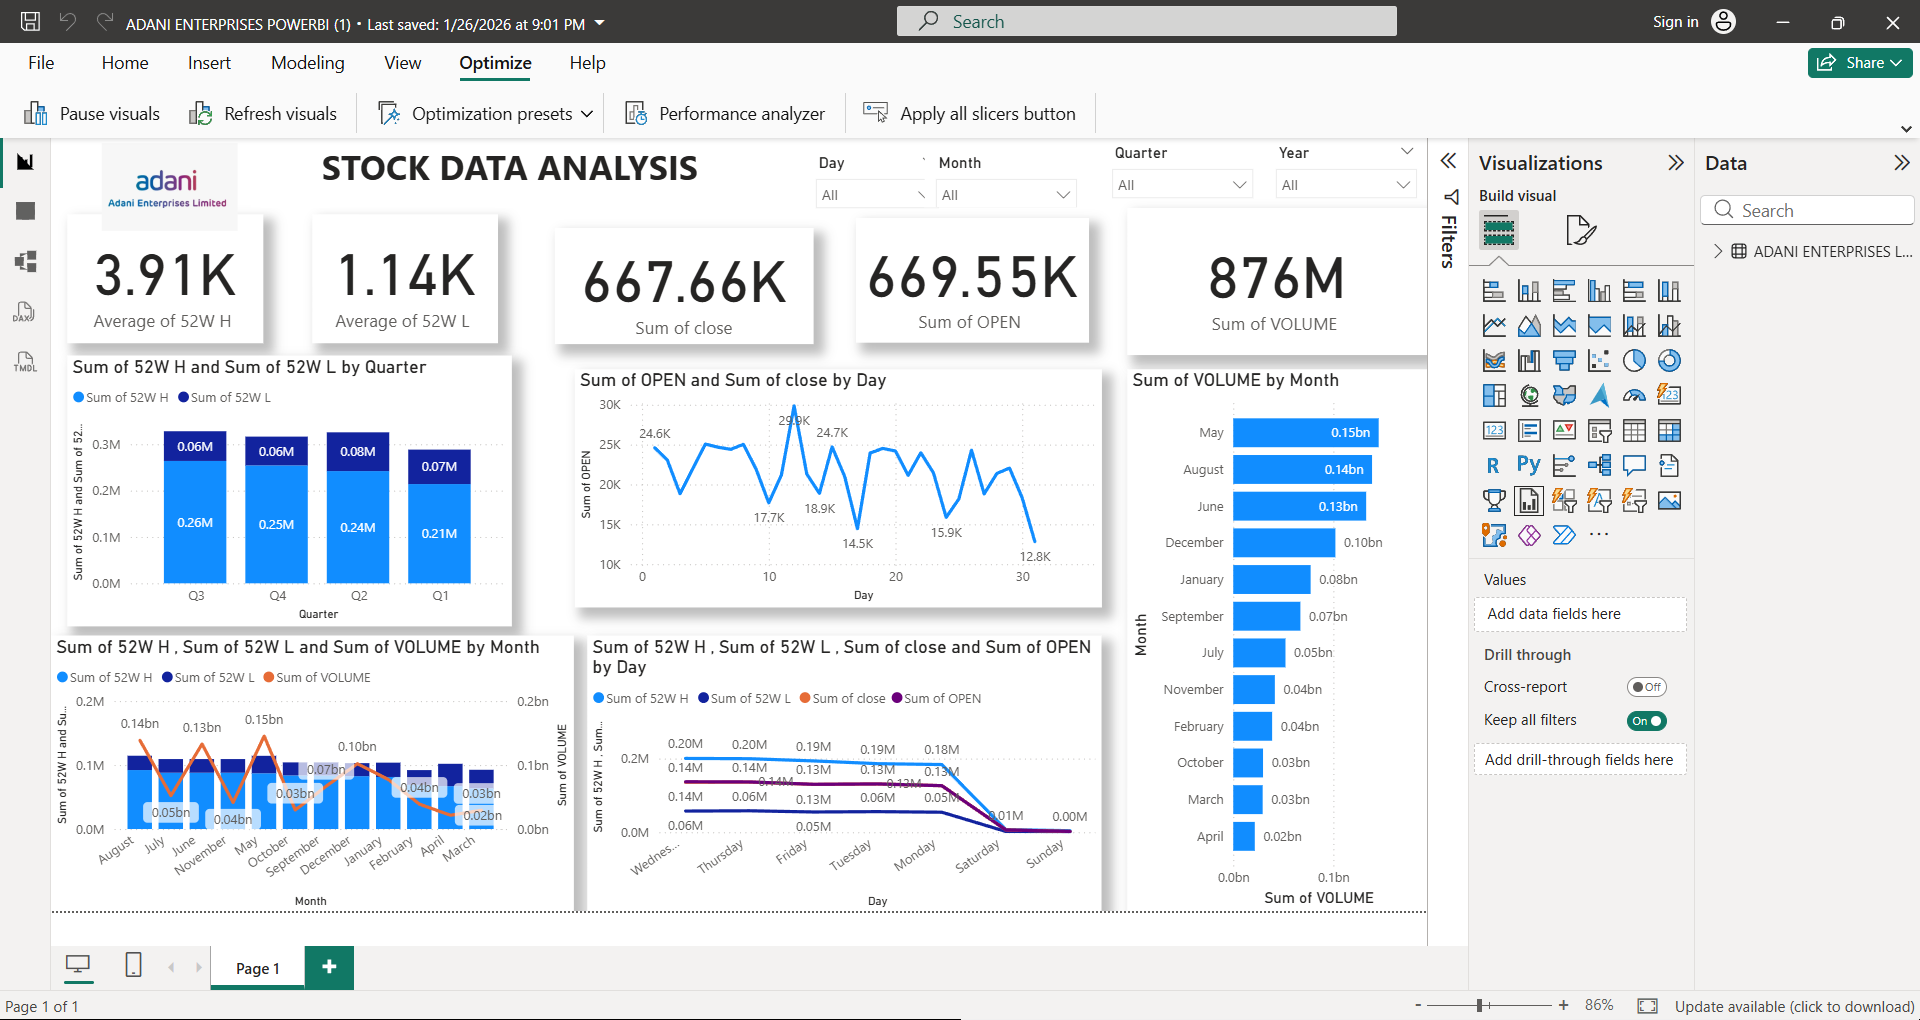

The page's visual inventory and layout, read from the dashboard file:
{"tool":"powerbi","page":{"name":"Page 1","canvas":[1280,720],"ordinal":0},"visuals":[{"type":"slicer","fields":{"Values":["ADANI ENTERPRISES LIMITED.Day"]},"box":[700.7,9.8,134.5,73.4],"z":0},{"type":"slicer","fields":{"Values":["ADANI ENTERPRISES LIMITED.Month"]},"box":[813.2,9.8,151.6,55],"z":1000},{"type":"slicer","fields":{"Values":["ADANI ENTERPRISES LIMITED.Quarter"]},"box":[977,0,151.6,150.4],"z":2000},{"type":"slicer","fields":{"Values":["ADANI ENTERPRISES LIMITED.Year"]},"box":[1128.7,0,151.6,150.4],"z":3000},{"type":"card","fields":{"Values":["Avg(ADANI ENTERPRISES LIMITED.52W H )"]},"box":[14.7,70.9,182.2,119.8],"z":4000},{"type":"card","fields":{"Values":["Avg(ADANI ENTERPRISES LIMITED.52W L )"]},"box":[243.3,70.9,172.4,119.8],"z":5000},{"type":"card","fields":{"Values":["Sum(ADANI ENTERPRISES LIMITED.close)"]},"box":[468.3,83.2,240.9,107.6],"z":6000},{"type":"card","fields":{"Values":["Sum(ADANI ENTERPRISES LIMITED.OPEN )"]},"box":[748.4,74.6,216.4,116.2],"z":7000},{"type":"card","fields":{"Values":["Sum(ADANI ENTERPRISES LIMITED.VOLUME )"]},"box":[1001.5,64.8,278.8,137],"z":8000},{"type":"columnChart","fields":{"Y":["Sum(ADANI ENTERPRISES LIMITED.52W H )","Sum(ADANI ENTERPRISES LIMITED.52W L )"],"Category":["ADANI ENTERPRISES LIMITED.Quarter"]},"box":[14.7,201.8,413.3,251.9],"z":9000},{"type":"lineStackedColumnComboChart","fields":{"Y":["Sum(ADANI ENTERPRISES LIMITED.52W H )","Sum(ADANI ENTERPRISES LIMITED.52W L )"],"Category":["ADANI ENTERPRISES LIMITED.Month"],"Y2":["Sum(ADANI ENTERPRISES LIMITED.VOLUME )"]},"box":[0,462.2,486.7,258],"z":10000},{"type":"lineChart","fields":{"Category":["ADANI ENTERPRISES LIMITED.Date .Variation.Date Hierarchy.Day"],"Y":["Sum(ADANI ENTERPRISES LIMITED.OPEN )"]},"box":[486.7,215.2,490.4,221.3],"z":11000},{"type":"lineChart","fields":{"Y":["Sum(ADANI ENTERPRISES LIMITED.52W H )","Sum(ADANI ENTERPRISES LIMITED.52W L )","Sum(ADANI ENTERPRISES LIMITED.close)","Sum(ADANI ENTERPRISES LIMITED.OPEN )"],"Category":["ADANI ENTERPRISES LIMITED.Day"]},"box":[498.9,462.2,478.1,258],"z":12000},{"type":"clusteredBarChart","fields":{"Category":["ADANI ENTERPRISES LIMITED.Month"],"Y":["Sum(ADANI ENTERPRISES LIMITED.VOLUME )"]},"box":[1001.5,215.2,278.8,505],"z":13000},{"type":"image","box":[0,0,221.3,91.7],"z":14000},{"type":"textbox","box":[185.9,0,481.8,64.8],"z":15000}]}

Visuals, with their boxes on the page's 1280x720 design canvas (x1, y1, x2, y2). These are canvas units, not pixel positions in the 1920x1020 screenshot, which may show the page scaled, cropped or inside an application window:
slicer - ADANI ENTERPRISES LIMITED.Day: (701,10,835,83)
slicer - ADANI ENTERPRISES LIMITED.Month: (813,10,965,65)
slicer - ADANI ENTERPRISES LIMITED.Quarter: (977,0,1129,150)
slicer - ADANI ENTERPRISES LIMITED.Year: (1129,0,1280,150)
card - Avg(ADANI ENTERPRISES LIMITED.52W H ): (15,71,197,191)
card - Avg(ADANI ENTERPRISES LIMITED.52W L ): (243,71,416,191)
card - Sum(ADANI ENTERPRISES LIMITED.close): (468,83,709,191)
card - Sum(ADANI ENTERPRISES LIMITED.OPEN ): (748,75,965,191)
card - Sum(ADANI ENTERPRISES LIMITED.VOLUME ): (1002,65,1280,202)
columnChart - Sum(ADANI ENTERPRISES LIMITED.52W H ) x Sum(ADANI ENTERPRISES LIMITED.52W L ): (15,202,428,454)
lineStackedColumnComboChart - Sum(ADANI ENTERPRISES LIMITED.52W H ) x Sum(ADANI ENTERPRISES LIMITED.52W L ): (0,462,487,720)
lineChart - ADANI ENTERPRISES LIMITED.Date .Variation.Date Hierarchy.Day x Sum(ADANI ENTERPRISES LIMITED.OPEN ): (487,215,977,436)
lineChart - Sum(ADANI ENTERPRISES LIMITED.52W H ) x Sum(ADANI ENTERPRISES LIMITED.52W L ): (499,462,977,720)
clusteredBarChart - ADANI ENTERPRISES LIMITED.Month x Sum(ADANI ENTERPRISES LIMITED.VOLUME ): (1002,215,1280,720)
image: (0,0,221,92)
textbox: (186,0,668,65)
